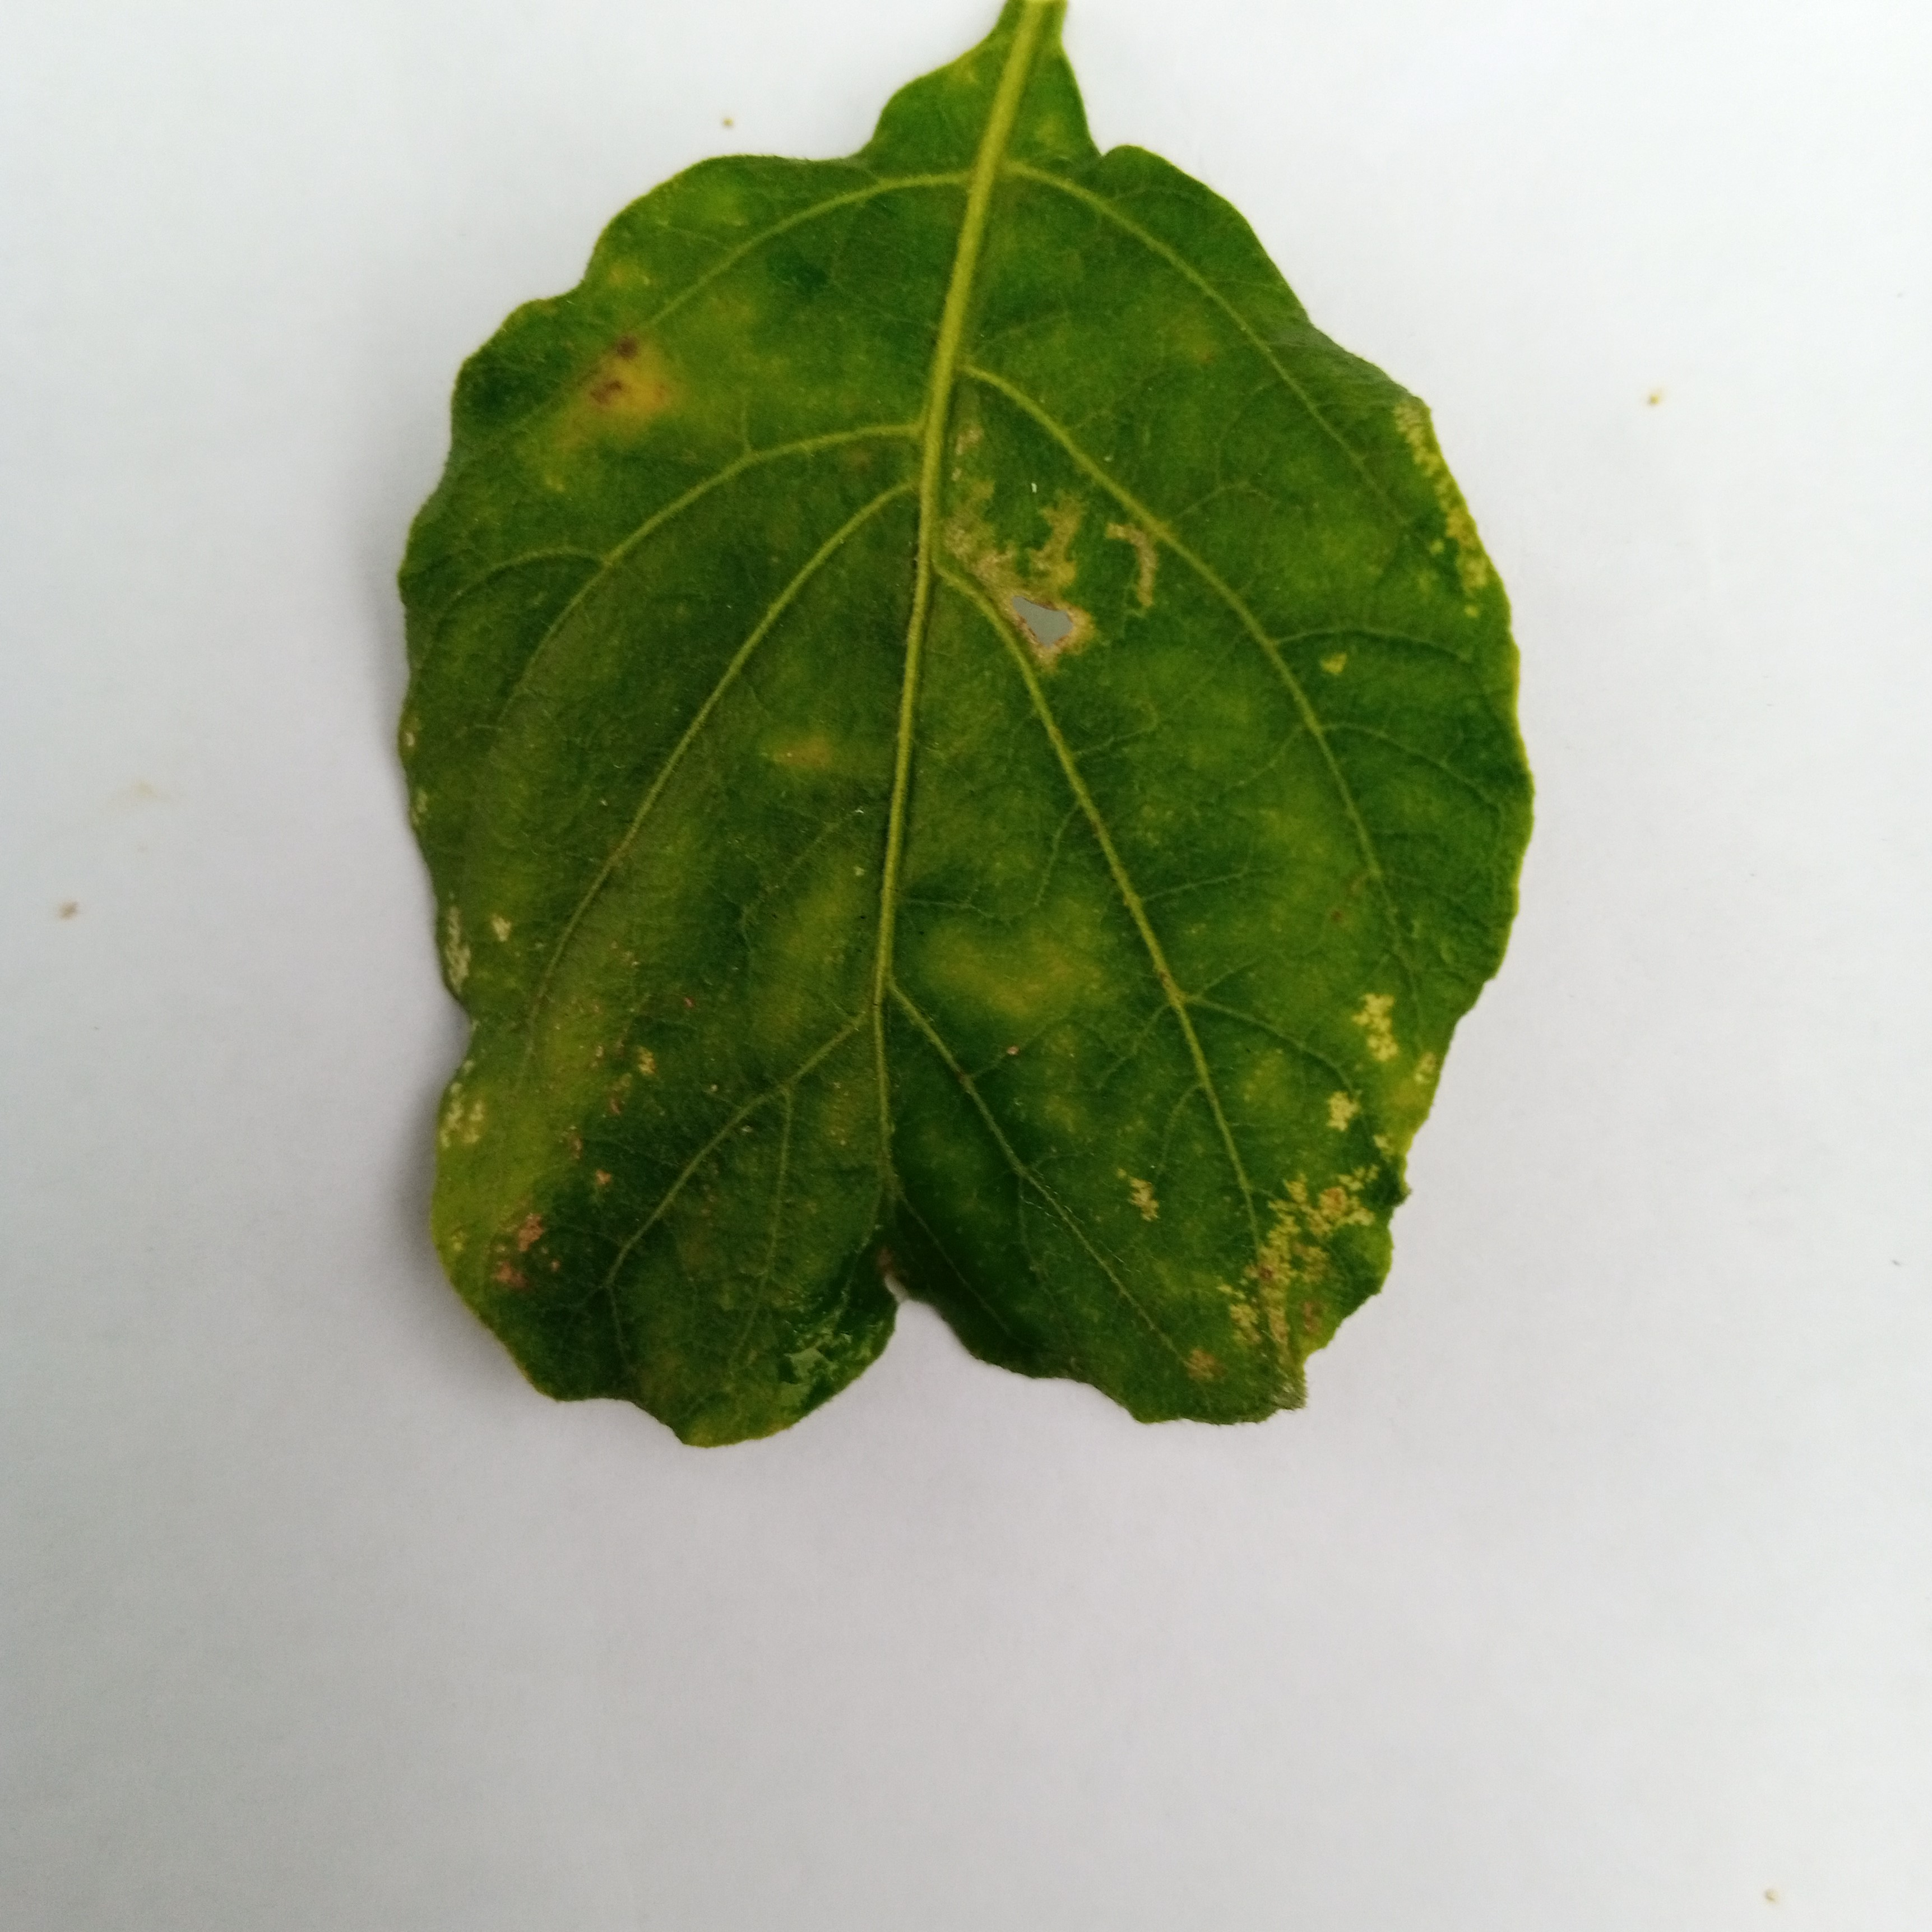Leaf: (242, 57, 1829, 1550)
